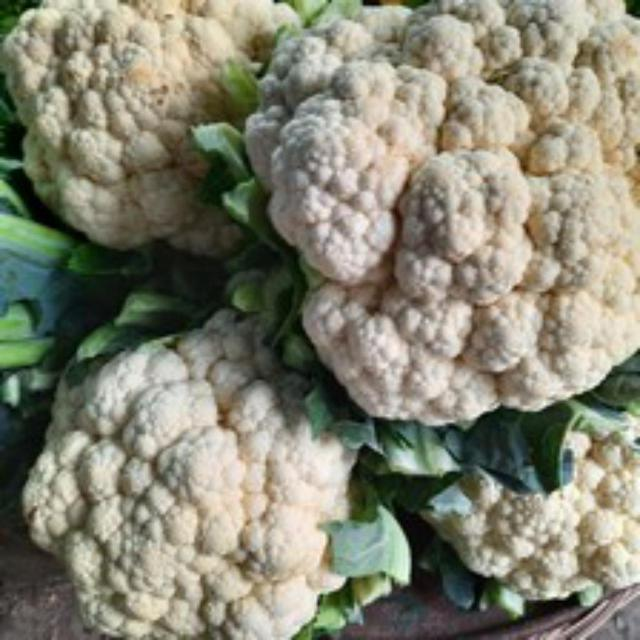cauliflower: (234, 0, 637, 426), (23, 328, 391, 637)
